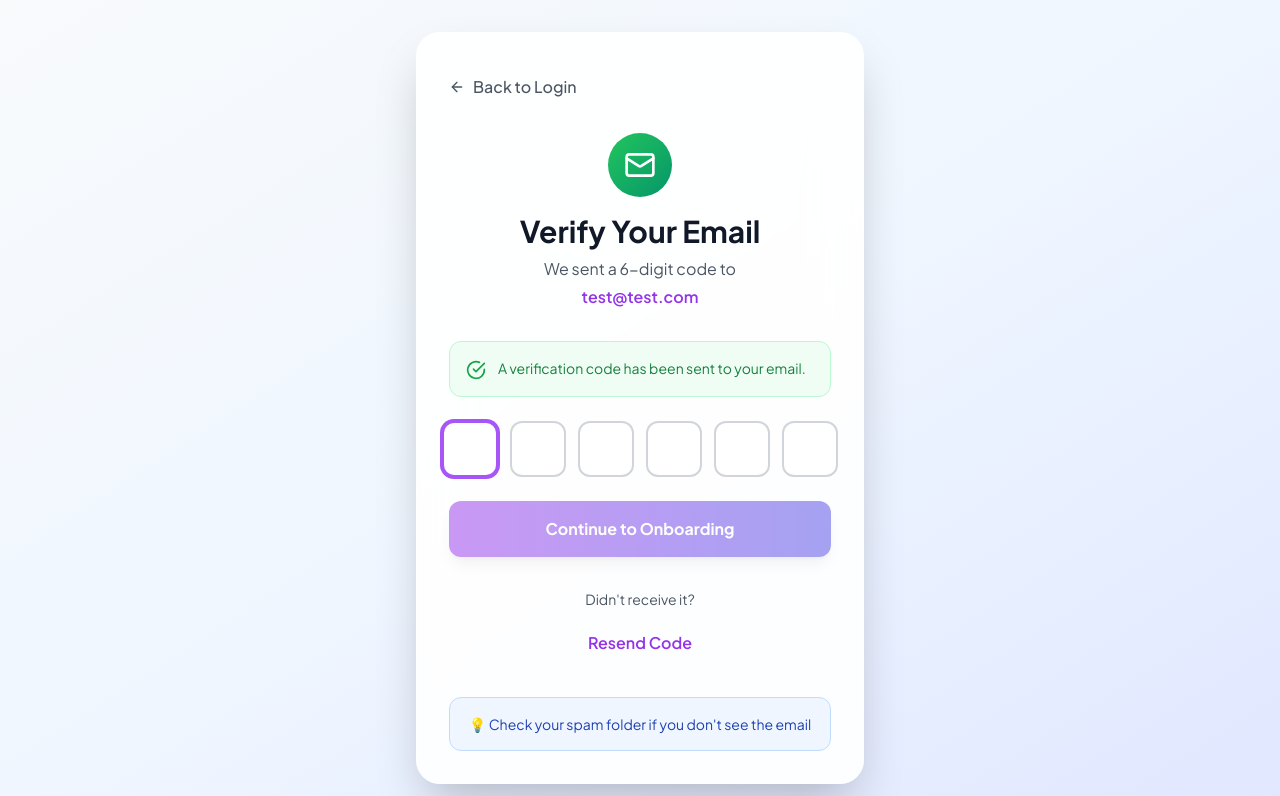
Test: OTPVerificationPage › resend OTP › shows error on resend failure
Click the button "Resend Code". click: [640, 643]
box: [572, 621, 708, 665]
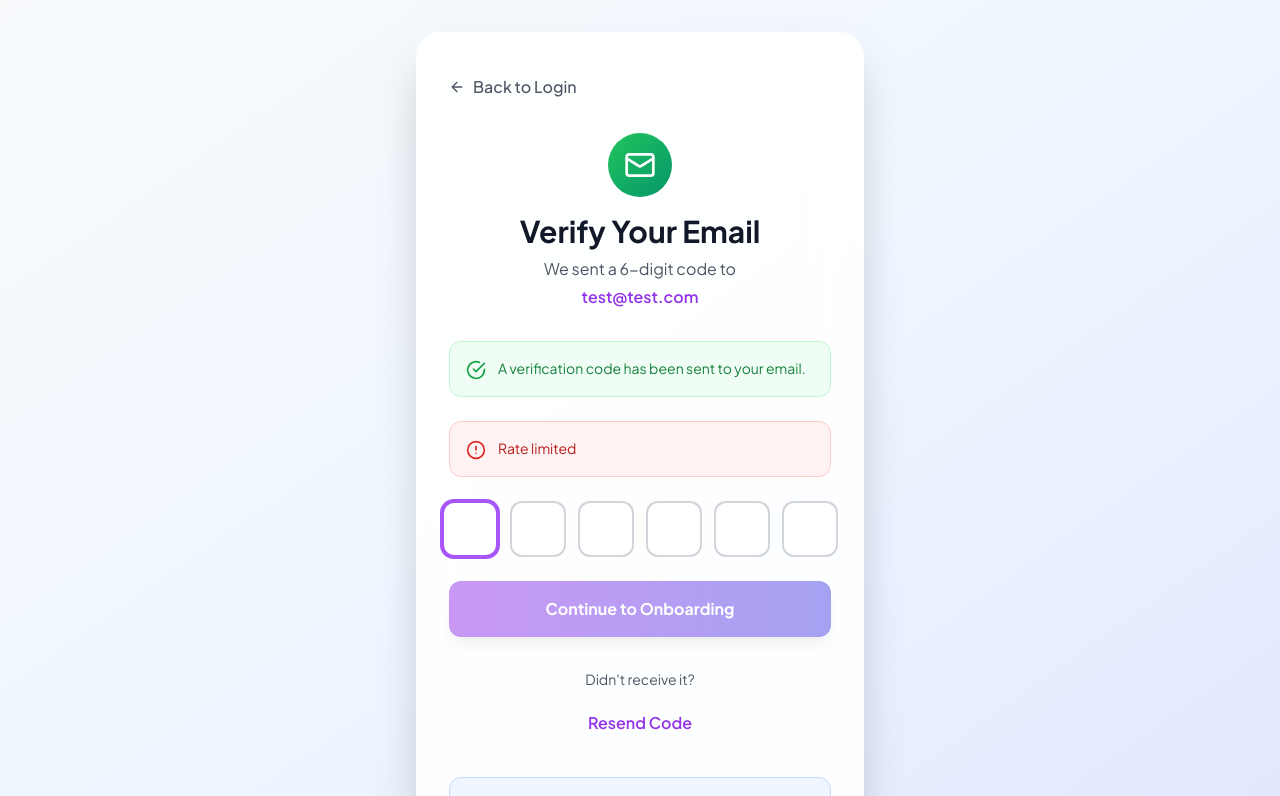
Check: the text "Rate limited" is shown, box [498, 438, 576, 458]
